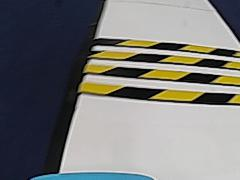bump: (81, 32, 235, 109)
